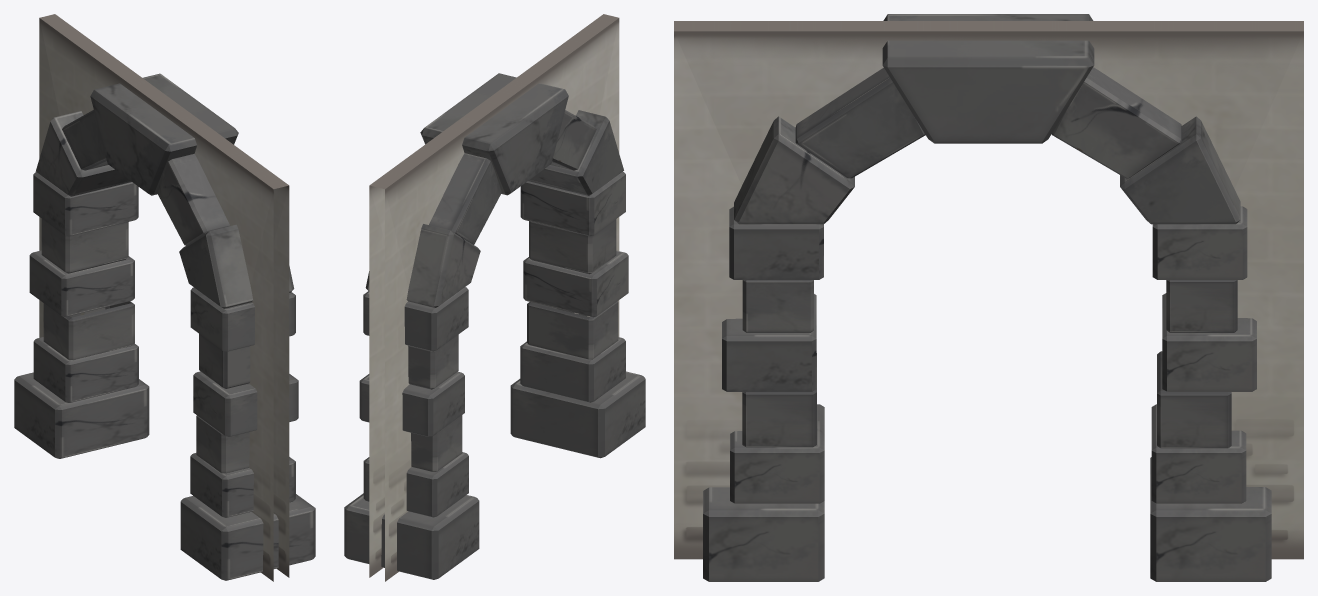
The model's file is SM_wallEntry.fbx.
3 renders of one model, left to right at view 1: azimuth 30°, elevation 25°; view 2: azimuth 150°, elevation 25°; view 3: azimuth 270°, elevation 25°, orthographic. The views are drawn at different scales.
Visible parts, largest first — view 1: SM_wallEntry; view 2: SM_wallEntry; view 3: SM_wallEntry.
Part boxes in pixels (x1,y1,x2,y2): SM_wallEntry: (14, 14, 315, 581); SM_wallEntry: (344, 14, 645, 581); SM_wallEntry: (674, 14, 1303, 581).
Size of the model in its own units: 1.41 by 5.59 by 6.04.
